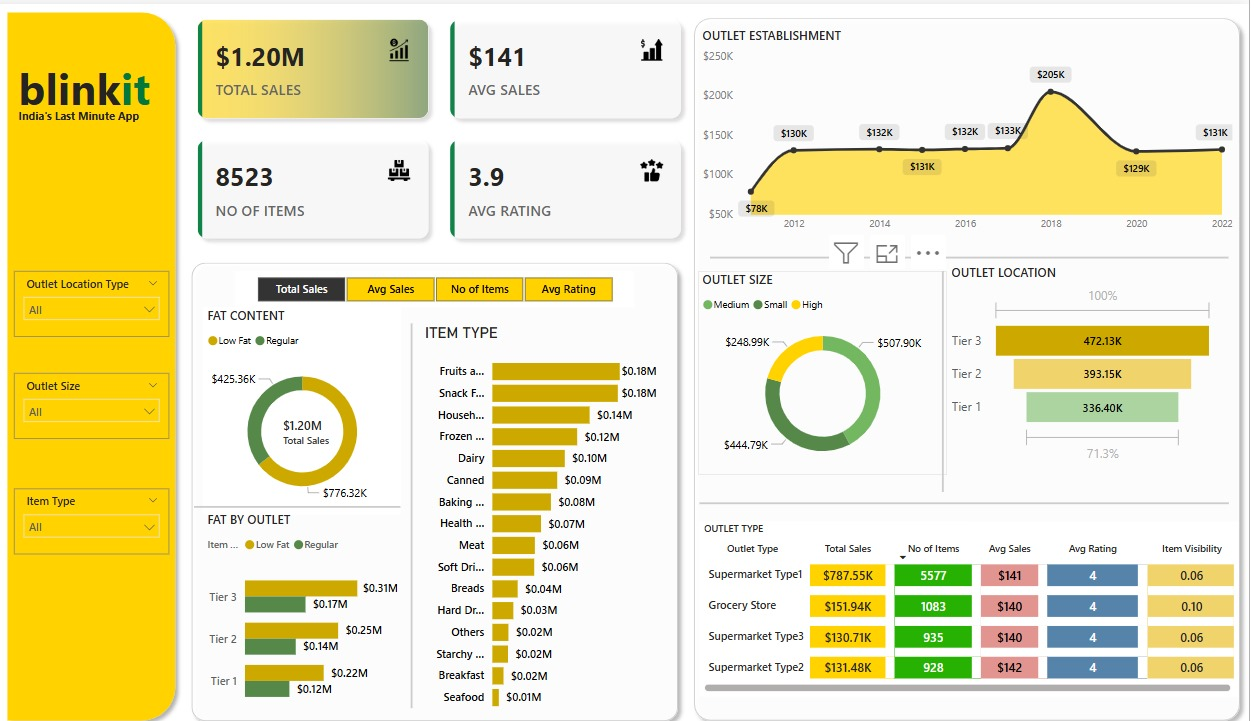

This screenshot's page, from the dashboard's own definition file:
{"tool":"powerbi","page":{"name":"Page 1","canvas":[1400,800],"ordinal":0},"visuals":[{"type":"shape","box":[20.1,0,203.8,800.3],"z":0},{"type":"textbox","box":[36,54,171.1,87.1],"z":1000},{"type":"textbox","box":[36,108.1,156.1,33],"z":2000},{"type":"cardVisual","fields":{"Data":["BlinkIT Grocery Data.Total Sales","BlinkIT Grocery Data.Avg Sales","BlinkIT Grocery Data.No of Items","BlinkIT Grocery Data.Avg Rating"]},"box":[222.5,0,569.7,277.5],"z":3000},{"type":"shape","box":[223.9,276.1,555,524.1],"z":4000},{"type":"donutChart","title":"FAT CONTENT","fields":{"Y":["BlinkIT Grocery Data.Total Sales"],"Category":["BlinkIT Grocery Data.Item Fat Content"]},"box":[245.3,335.1,218.5,229.2],"z":5000},{"type":"slicer","fields":{"Values":["Metrics.Metrics"]},"box":[280.2,294.9,441,40.2],"z":6000},{"type":"cardVisual","fields":{"Data":["BlinkIT Grocery Data.Total Sales"]},"box":[316.4,438.3,103.2,64.3],"z":7000},{"type":"clusteredBarChart","title":"FAT BY OUTLET","fields":{"Y":["BlinkIT Grocery Data.Total Sales"],"Category":["BlinkIT Grocery Data.Outlet Location Type"],"Series":["BlinkIT Grocery Data.Item Fat Content"]},"box":[245.3,559,219.8,230.6],"z":8000},{"type":"shape","box":[235.9,546.9,227.9,17.4],"z":9000},{"type":"shape","box":[465.1,352.5,20.1,424.9],"z":10000},{"type":"barChart","title":"ITEM TYPE","fields":{"Y":["BlinkIT Grocery Data.Total Sales"],"Category":["BlinkIT Grocery Data.Item Type"]},"box":[485.3,352.5,265.4,437],"z":11000},{"type":"shape","box":[778.8,6.7,620.6,793.6],"z":12000},{"type":"lineChart","title":"OUTLET ESTABLISHMENT","fields":{"Y":["BlinkIT Grocery Data.Total Sales"],"Category":["BlinkIT Grocery Data.Outlet Establishment Year"]},"box":[792.2,24.1,595.2,234.6],"z":13000},{"type":"shape","box":[804.3,273.5,572.4,13.4],"z":14000},{"type":"donutChart","title":"OUTLET SIZE","fields":{"Y":["BlinkIT Grocery Data.Total Sales"],"Category":["BlinkIT Grocery Data.Outlet Size"]},"box":[792.2,294.9,274.8,225.2],"z":15000},{"type":"shape","box":[1056.3,294.9,10.7,244],"z":16000},{"type":"funnel","title":"OUTLET LOCATION","fields":{"Y":["Sum(BlinkIT Grocery Data.Sales)"],"Category":["BlinkIT Grocery Data.Outlet Location Type"]},"box":[1067,286.9,298.9,225.2],"z":17000},{"type":"shape","box":[793.6,546.9,584.5,9.4],"z":18000},{"type":"pivotTable","title":"OUTLET TYPE","fields":{"Rows":["BlinkIT Grocery Data.Outlet Type"],"Values":["BlinkIT Grocery Data.Total Sales","BlinkIT Grocery Data.No of Items","BlinkIT Grocery Data.Avg Sales","BlinkIT Grocery Data.Avg Rating","Avg(BlinkIT Grocery Data.Item Visibility)"]},"box":[793.6,571,595.2,193],"z":19000},{"type":"slicer","fields":{"Values":["BlinkIT Grocery Data.Outlet Location Type"]},"box":[36.2,294.9,171.6,72.4],"z":20000},{"type":"slicer","fields":{"Values":["BlinkIT Grocery Data.Outlet Size"]},"box":[36.2,407.5,171.6,72.4],"z":21000},{"type":"slicer","fields":{"Values":["BlinkIT Grocery Data.Item Type"]},"box":[36.2,534.9,171.6,72.4],"z":22000}]}

Visuals, with their boxes in screenshot pixels (x1, y1, x2, y2), scaled from the page's 1400x800 canvas onto the 1252x721 screenshot:
shape: {"x1": 18, "y1": 0, "x2": 200, "y2": 720}
textbox: {"x1": 32, "y1": 49, "x2": 185, "y2": 127}
textbox: {"x1": 32, "y1": 97, "x2": 172, "y2": 127}
cardVisual - BlinkIT Grocery Data.Total Sales x BlinkIT Grocery Data.Avg Sales: {"x1": 199, "y1": 0, "x2": 708, "y2": 250}
shape: {"x1": 200, "y1": 249, "x2": 697, "y2": 720}
"FAT CONTENT" donutChart: {"x1": 219, "y1": 302, "x2": 415, "y2": 509}
slicer - Metrics.Metrics: {"x1": 251, "y1": 266, "x2": 645, "y2": 302}
cardVisual - BlinkIT Grocery Data.Total Sales: {"x1": 283, "y1": 395, "x2": 375, "y2": 453}
"FAT BY OUTLET" clusteredBarChart: {"x1": 219, "y1": 504, "x2": 416, "y2": 712}
shape: {"x1": 211, "y1": 493, "x2": 415, "y2": 509}
shape: {"x1": 416, "y1": 318, "x2": 434, "y2": 701}
"ITEM TYPE" barChart: {"x1": 434, "y1": 318, "x2": 671, "y2": 712}
shape: {"x1": 696, "y1": 6, "x2": 1251, "y2": 720}
"OUTLET ESTABLISHMENT" lineChart: {"x1": 708, "y1": 22, "x2": 1241, "y2": 233}
shape: {"x1": 719, "y1": 246, "x2": 1231, "y2": 259}
"OUTLET SIZE" donutChart: {"x1": 708, "y1": 266, "x2": 954, "y2": 469}
shape: {"x1": 945, "y1": 266, "x2": 954, "y2": 486}
"OUTLET LOCATION" funnel: {"x1": 954, "y1": 259, "x2": 1222, "y2": 462}
shape: {"x1": 710, "y1": 493, "x2": 1232, "y2": 501}
"OUTLET TYPE" pivotTable: {"x1": 710, "y1": 515, "x2": 1242, "y2": 689}
slicer - BlinkIT Grocery Data.Outlet Location Type: {"x1": 32, "y1": 266, "x2": 186, "y2": 331}
slicer - BlinkIT Grocery Data.Outlet Size: {"x1": 32, "y1": 367, "x2": 186, "y2": 433}
slicer - BlinkIT Grocery Data.Item Type: {"x1": 32, "y1": 482, "x2": 186, "y2": 547}
